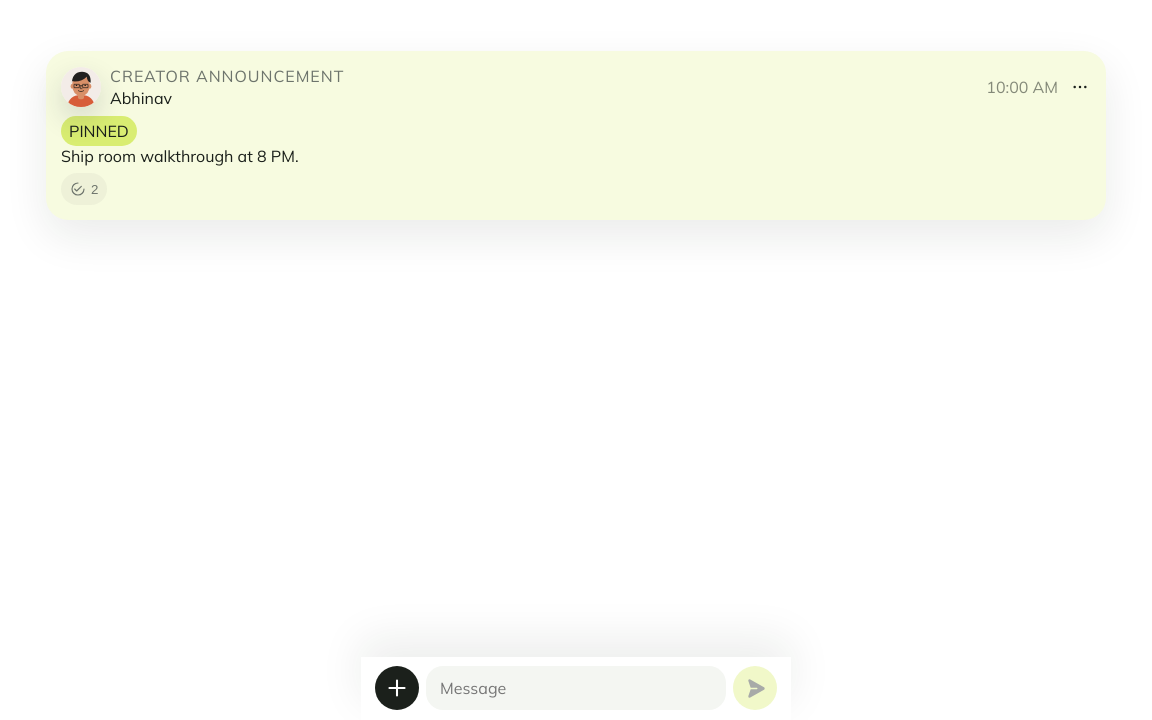
Pod room › opens the same message actions through a touch long press
Expected: the text "Ship room walkthrough at 8 PM." is shown, top-left (61, 146), bottom-right (298, 166)
Press the mouse on the text "Ship room walkthrough at 8 PM." at (576, 136), box top-left (46, 51), bottom-right (1106, 220)
Wait 500 ms
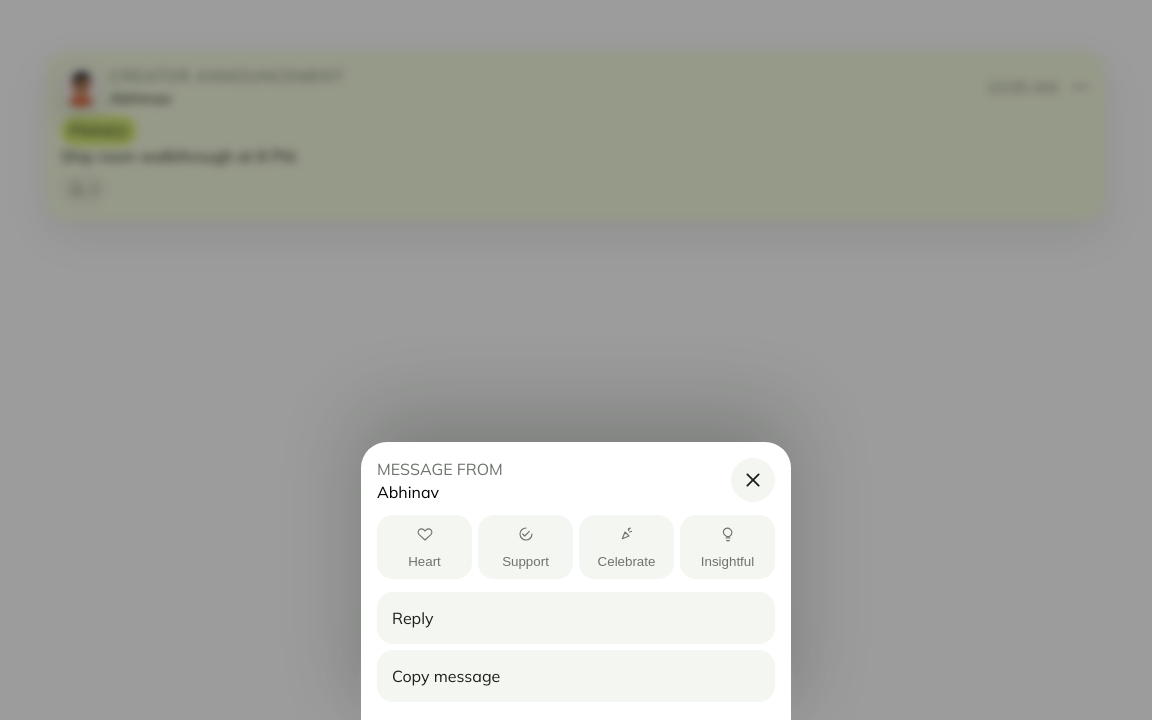
Expected: the dialog named "Message actions" is shown, top-left (361, 442), bottom-right (791, 719)
